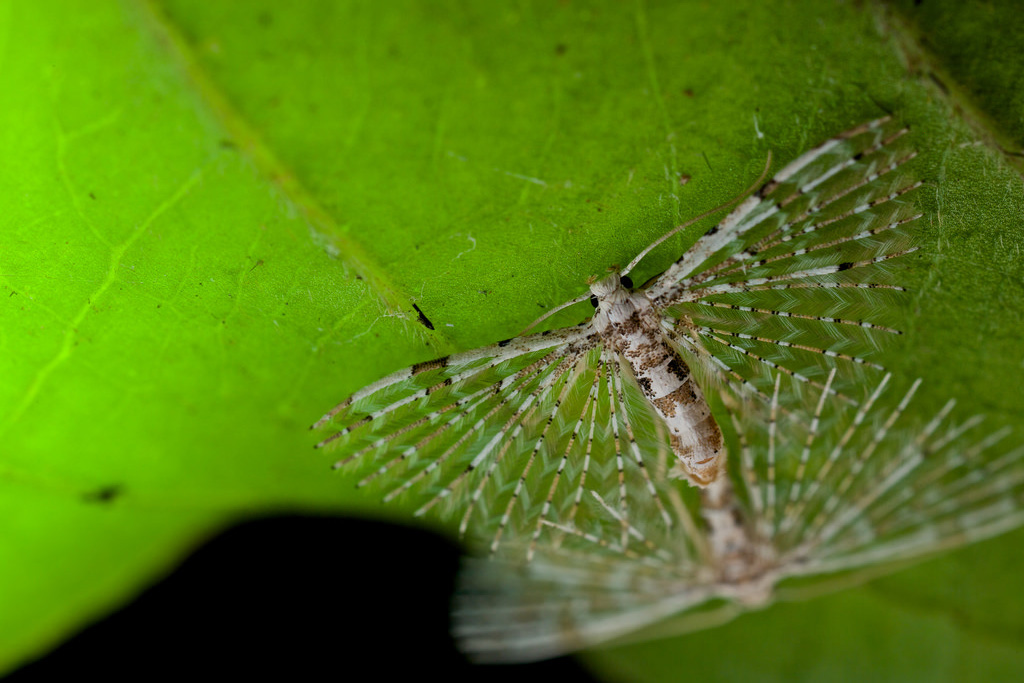Alucitidae: (302, 104, 935, 555)
moth: (304, 106, 937, 557)
